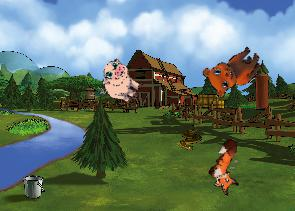bear: (197, 34, 267, 104)
fox: (200, 136, 256, 198)
pig: (93, 55, 148, 109)
